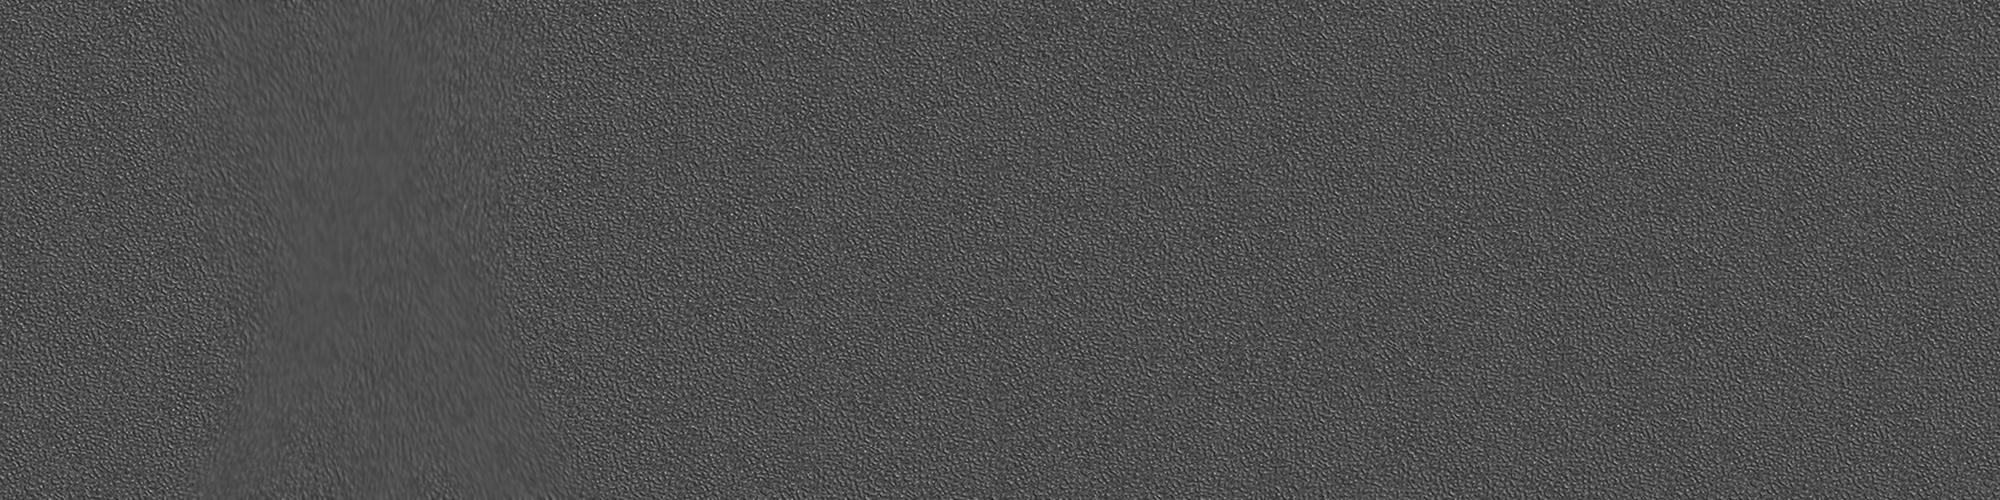Flow_Lines: (168, 19, 527, 497)
